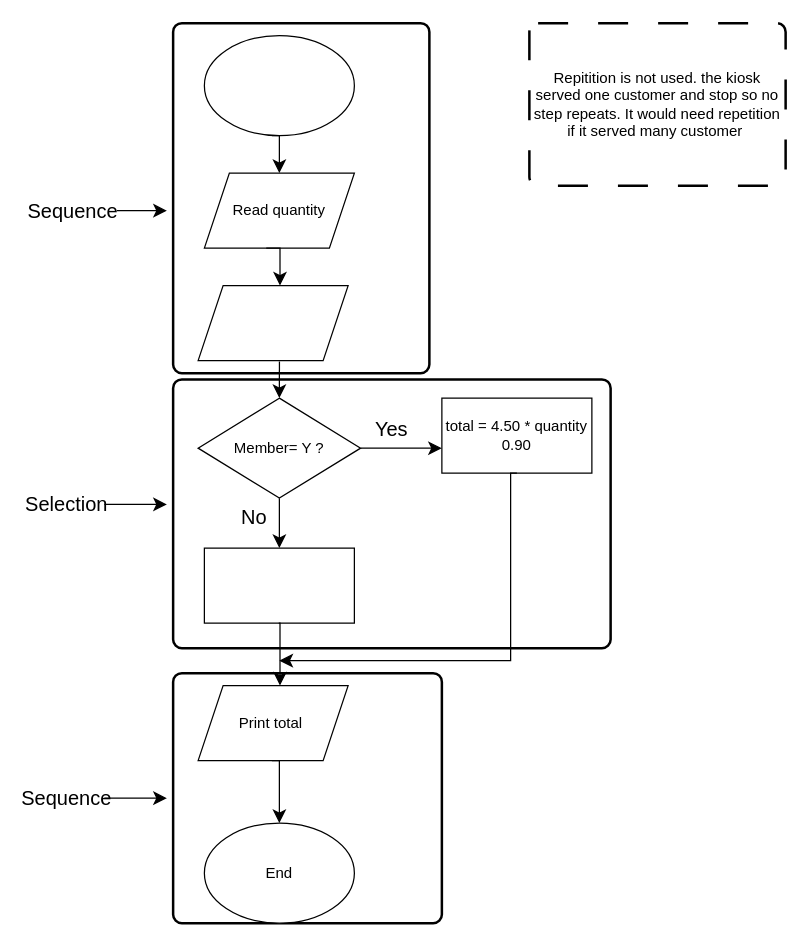
Image size: 808x945. Some labels were removed from this diagram. Here are the shapes that lost their labels. From the top down, the box of each, then its label:
(203, 34, 354, 136): Start
(197, 284, 348, 361): Read member
(203, 547, 354, 623): total = 4.50 * quantity
